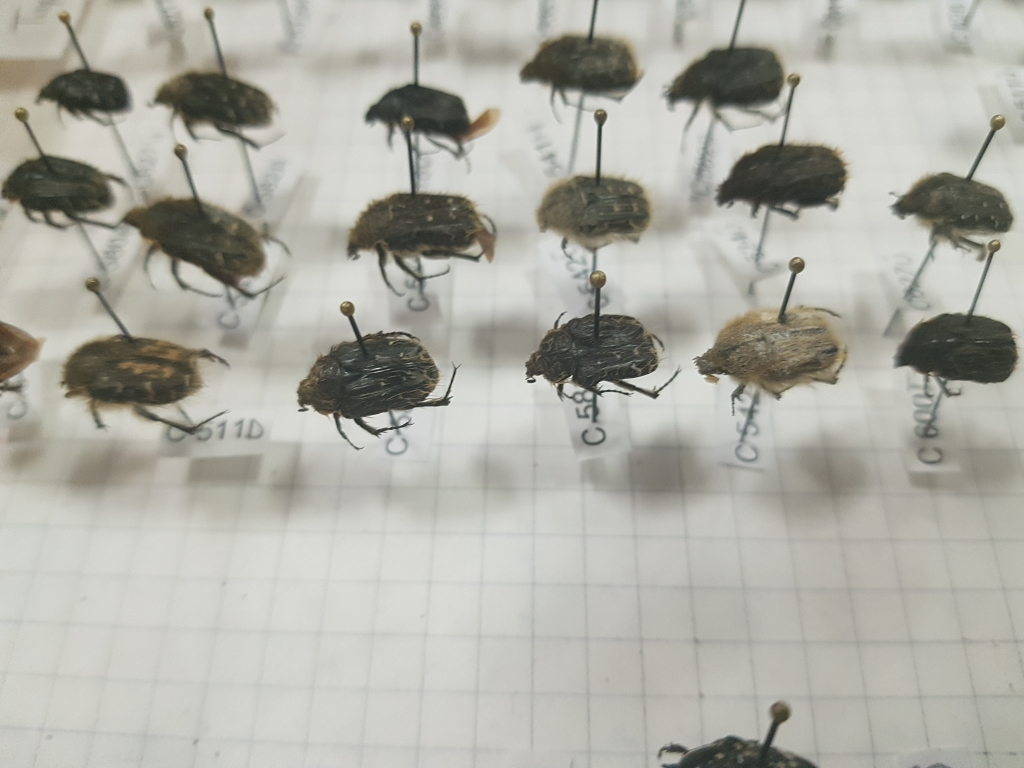Tropinota_hirta: (683, 292, 858, 407)
